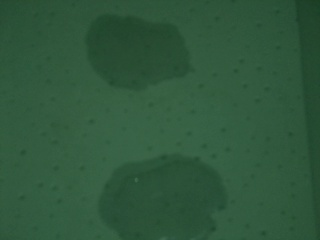Water_detected: (107, 157, 207, 234), (91, 14, 173, 77)
